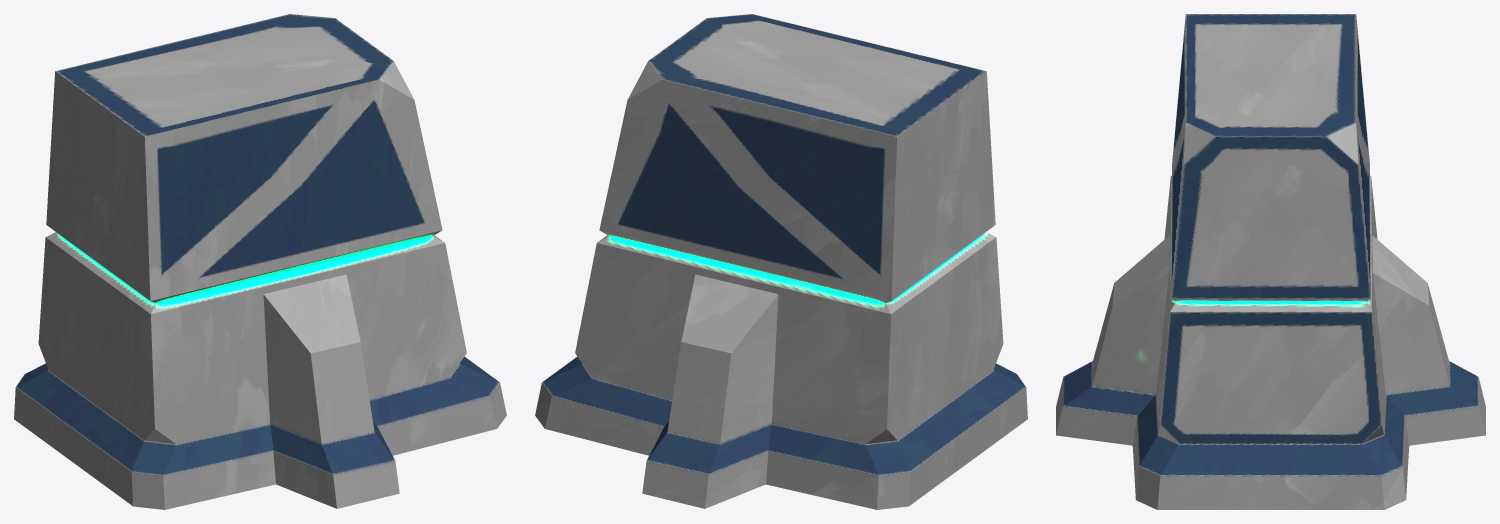
File: pilier_mur_sous_bassement.fbx
3 renders of one model, left to right at view 1: azimuth 30°, elevation 25°; view 2: azimuth 150°, elevation 25°; view 3: azimuth 270°, elevation 25°, orthographic. The views are drawn at different scales.
Visible parts, largest first — view 1: low.002; view 2: low.002; view 3: low.002.
Boxes of the visible parts, bbox=[...] form: low.002: bbox=[14, 14, 506, 509]; low.002: bbox=[535, 14, 1027, 509]; low.002: bbox=[1056, 14, 1485, 509].
Bounding box in the file's own units: 481 × 433 × 504.
